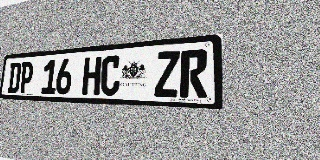1: (41, 59, 58, 94)
6: (55, 58, 73, 94)
C: (100, 55, 121, 96)
D: (7, 62, 22, 93)
H: (82, 56, 102, 95)
P: (19, 61, 34, 94)
R: (180, 49, 208, 98)
Z: (154, 51, 180, 97)
